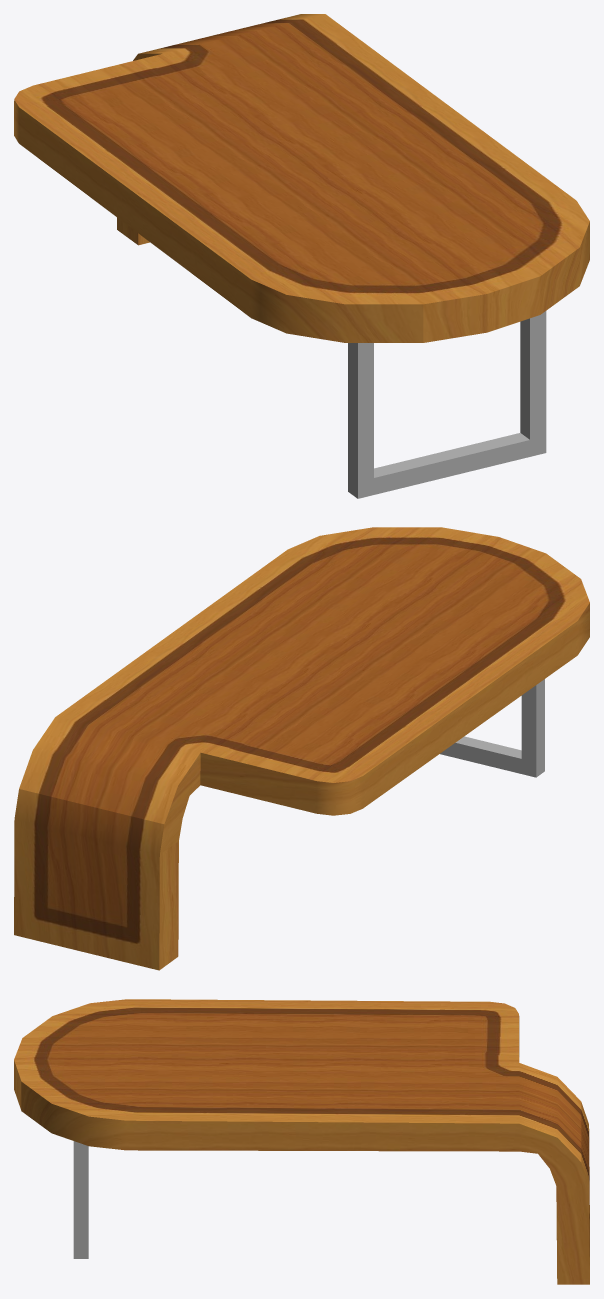
File: ModCoffeeTable.fbx
3 views of the same model, one above another, from view 1: azimuth 30°, elevation 25°; view 2: azimuth 150°, elevation 25°; view 3: azimuth 270°, elevation 25° (orthographic). The views are drawn at different scales.
Parts seen in each view (by area): view 1: pCube72; view 2: pCube72; view 3: pCube72.
Part boxes in pixels (bbox=[...]): pCube72: bbox=[14, 14, 589, 498]; pCube72: bbox=[14, 527, 589, 970]; pCube72: bbox=[14, 999, 589, 1284].
Bounding box in the file's own units: 2.03 × 1.24 × 4.
1 material, 1 textured.
